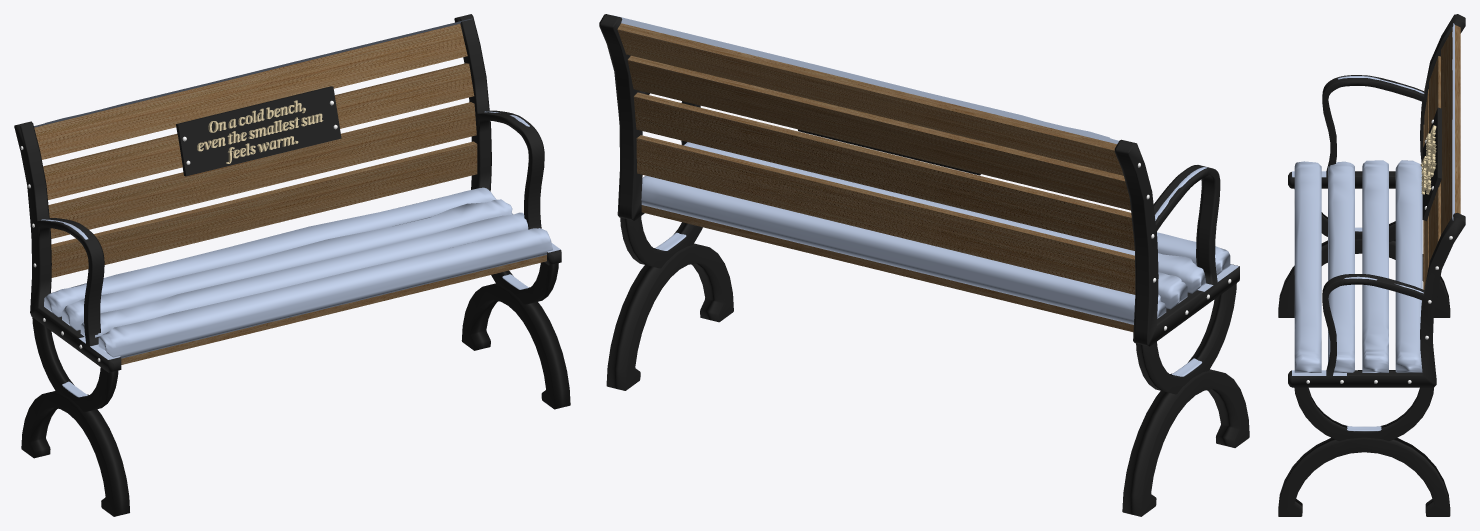
Rendered from bench.glb.
The picture shows the model from 3 angles, left to right: view 1: azimuth 30°, elevation 25°; view 2: azimuth 150°, elevation 25°; view 3: azimuth 270°, elevation 25°; orthographic projection. The views are drawn at different scales.
Parts seen in each view (by area): view 1: snowBench, wood.004, wood.007, wood.006, wood.005, handle.001, plaque, handle.002, bottom2, bottom2.001, wood.003, Text (+3 smaller); view 2: snowBench, wood.007, wood.006, wood.005, wood.004, handle.001, bottom2, bottom2.001, handle.002, wood, bottom.001, snowBenchTop (+1 smaller); view 3: snowBench, handle.002, bottom2, wood.004, handle.001, bottom, bottom2.001, wood.005, plaque, Text, snowBenchTop, wood.006 (+4 smaller).
Boxes of the visible parts, x1,y1,x2,y2 form: snowBench: (44,187,552,358); wood.004: (34,24,467,159); wood.007: (51,141,477,277); wood.006: (48,102,476,238); wood.005: (43,63,474,199); handle.001: (14,121,121,372); plaque: (176,86,341,176); handle.002: (454,14,561,265); bottom2: (461,283,570,409); bottom2.001: (21,391,129,516); wood.003: (121,255,546,364); Text: (197,100,323,163); snowBench: (641,142,1230,324); wood.007: (636,135,1135,294); wood.006: (633,92,1134,250); wood.005: (627,55,1130,210); wood.004: (617,23,1123,175); handle.001: (1114,139,1239,346); bottom2: (606,243,733,390); bottom2.001: (1122,369,1249,516); handle.002: (599,14,700,220); wood: (641,205,1133,332); bottom.001: (1136,283,1236,394); snowBenchTop: (613,15,1118,143); snowBench: (1294,160,1422,372); handle.002: (1288,213,1465,387); bottom2: (1278,437,1450,516); wood.004: (1441,25,1460,234); handle.001: (1288,14,1465,188); bottom: (1294,387,1433,440); bottom2.001: (1278,239,1450,317); wood.005: (1429,56,1440,264); plaque: (1422,107,1441,220); Text: (1420,125,1436,194); snowBenchTop: (1452,23,1454,220); wood.006: (1424,89,1428,287).
Bounding box in the file's own units: 2.08 × 1.4 × 0.7988.
Materials: 5 (1 with a texture image).
